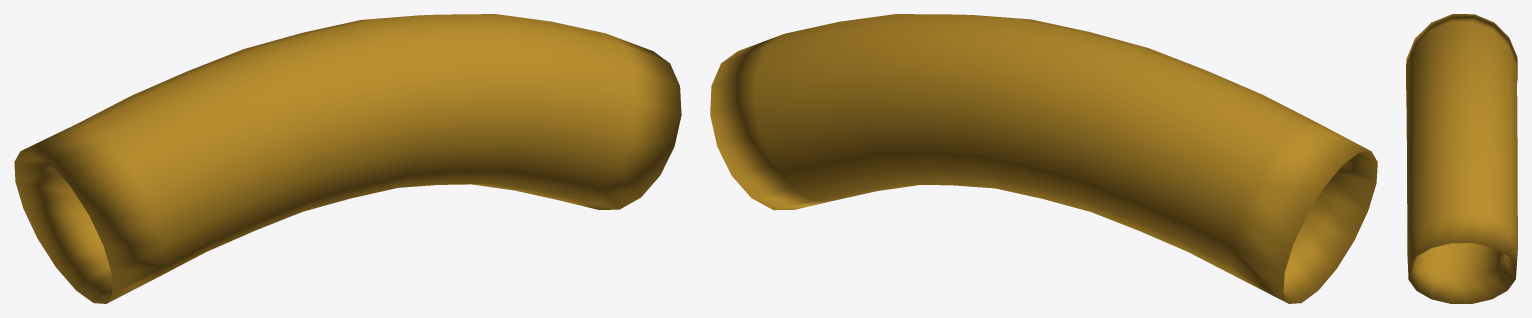
The model's file is Macaroni.fbx.
3 views of the same model, side by side, from view 1: azimuth 30°, elevation 25°; view 2: azimuth 150°, elevation 25°; view 3: azimuth 270°, elevation 25° (orthographic). The views are drawn at different scales.
Parts seen in each view (by area): view 1: Macaroni; view 2: Macaroni; view 3: Macaroni.
Part boxes in pixels (bbox=[...]): Macaroni: bbox=[14, 14, 681, 303]; Macaroni: bbox=[710, 14, 1377, 303]; Macaroni: bbox=[1406, 14, 1517, 303].
Bounding box in the file's own units: 10.58 × 3.75 × 2.55.
